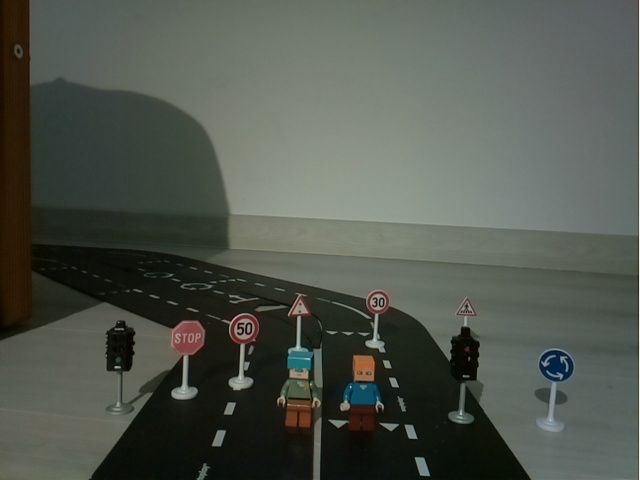green light: (102, 318, 141, 416)
limit 30: (364, 288, 392, 352)
limit 50: (224, 309, 262, 395)
pedestrian sign: (448, 294, 481, 334)
person: (338, 352, 388, 439), (279, 351, 321, 433)
red light: (450, 336, 482, 428)
round: (534, 346, 575, 435)
stop: (163, 316, 208, 403)
traffic light sign: (283, 291, 313, 350)
